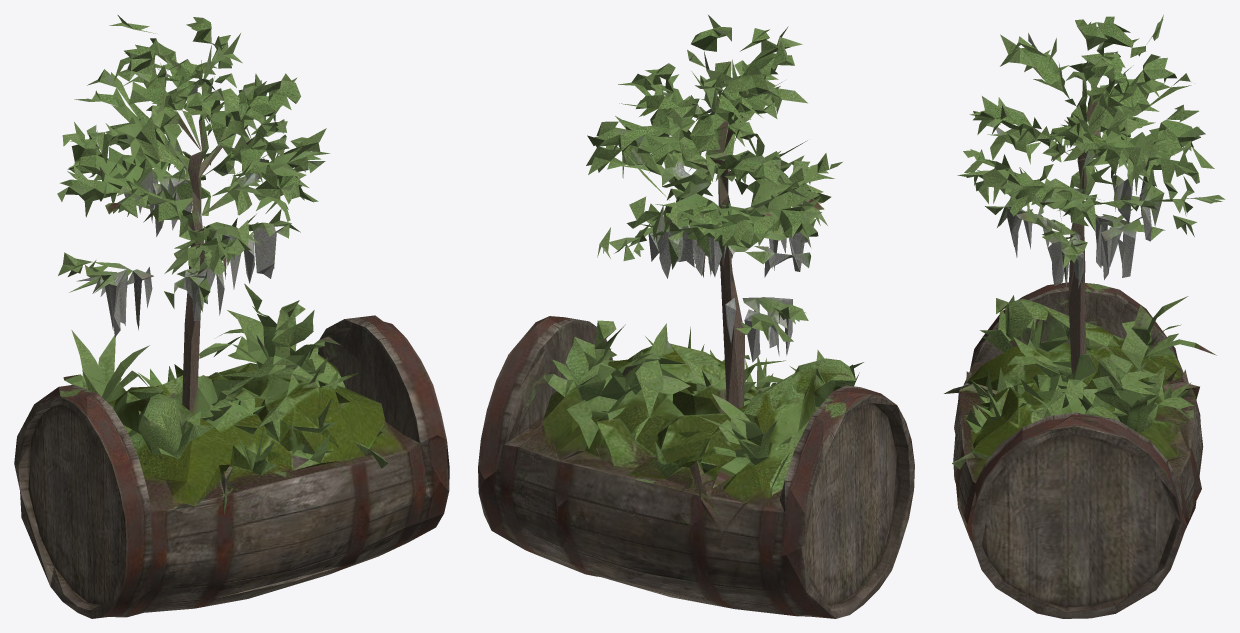
File: sp_m_planter.glb
The picture shows the model from 3 angles, left to right: view 1: azimuth 30°, elevation 25°; view 2: azimuth 150°, elevation 25°; view 3: azimuth 270°, elevation 25°; orthographic projection. The views are drawn at different scales.
Visible parts, largest first — view 1: Mesh_0; view 2: Mesh_0; view 3: Mesh_0.
Part boxes in pixels (bbox=[...]): Mesh_0: bbox=[14, 15, 449, 618]; Mesh_0: bbox=[478, 15, 914, 618]; Mesh_0: bbox=[944, 14, 1225, 618].
Size of the model in its own units: 1.1 by 1.83 by 0.8951.
Materials: 1 (1 with a texture image).
